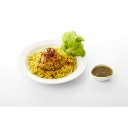briyani: (30, 48, 73, 76)
